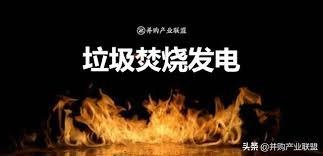fire: (46, 82, 267, 145)
